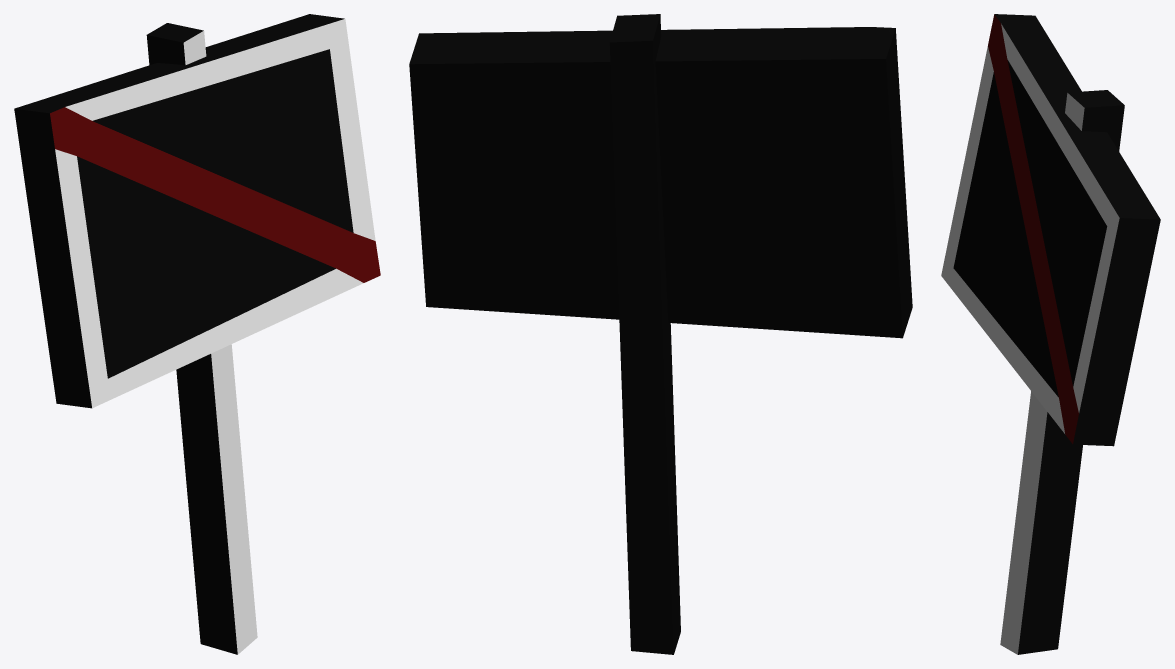
Rendered from tafal_ende.FBX.
The picture shows the model from 3 angles, left to right: view 1: azimuth 30°, elevation 25°; view 2: azimuth 150°, elevation 25°; view 3: azimuth 270°, elevation 25°; orthographic projection. The views are drawn at different scales.
Visible parts, largest first — view 1: tafal; view 2: tafal; view 3: tafal.
Part boxes in pixels (bbox=[...]): tafal: bbox=[14, 14, 380, 654]; tafal: bbox=[409, 14, 912, 654]; tafal: bbox=[941, 14, 1160, 654].
Size of the model in its own units: 18.83 by 10.03 by 27.52.
